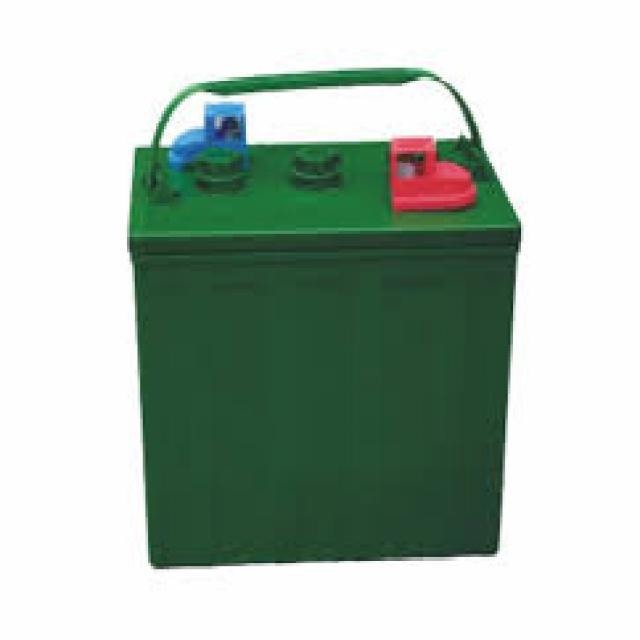battery: (122, 67, 524, 578)
